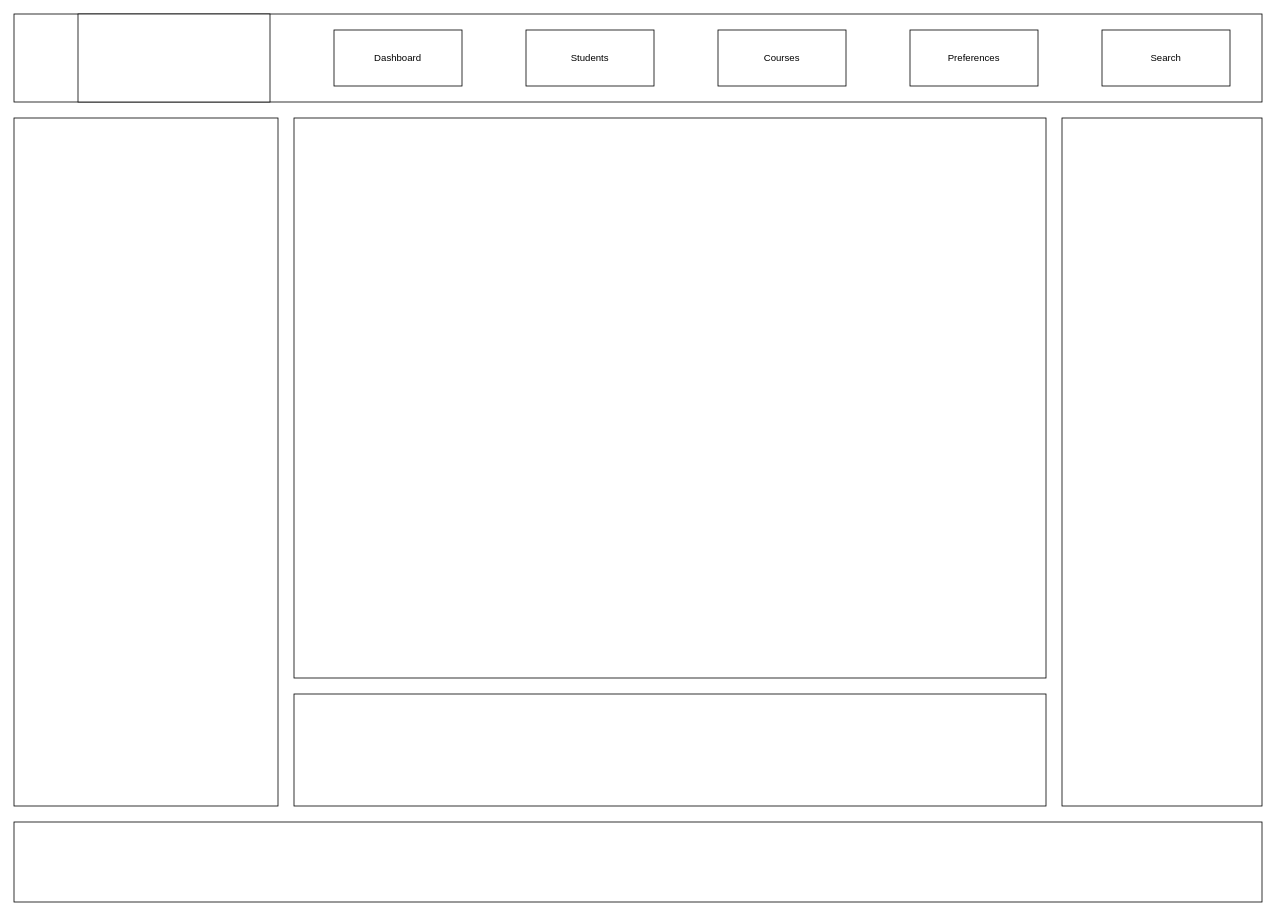
Image size: 1276x916. Some labels were removed from this diagram. The shapes that lost their labels are listed below. From the top down, each one's box as (x1, y1, x2, y2) in pixels, then its label:
(77, 13, 270, 102): Logo
(13, 821, 1262, 902): Footer
